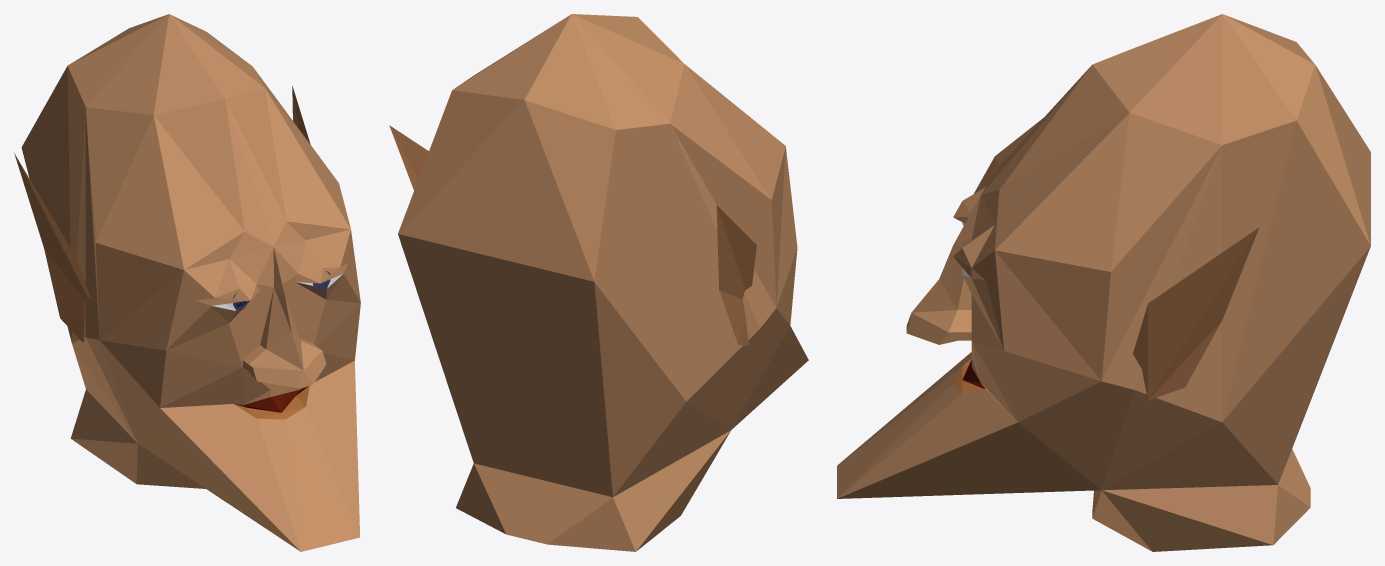
Rendered from model_23_npc_head.obj.
3 renders of one model, left to right at view 1: azimuth 30°, elevation 25°; view 2: azimuth 150°, elevation 25°; view 3: azimuth 270°, elevation 25°, orthographic. The views are drawn at different scales.
Visible parts, largest first — view 1: 23; view 2: 23; view 3: 23.
Part boxes in pixels (left/top/right/bottom): 23: left=14, top=14, right=360, bottom=551; 23: left=389, top=14, right=808, bottom=551; 23: left=837, top=14, right=1370, bottom=551.
Bounding box in the file's own units: 80 × 119 × 115.
